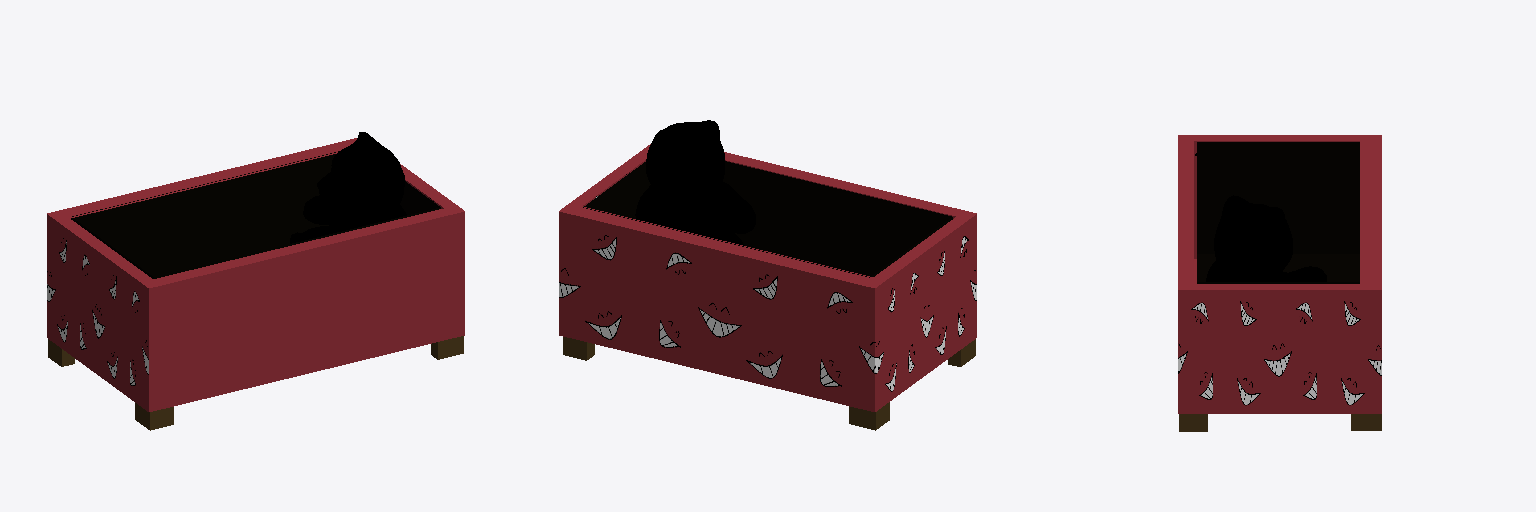
3 renders of one model, left to right at view 1: azimuth 30°, elevation 25°; view 2: azimuth 150°, elevation 25°; view 3: azimuth 270°, elevation 25°, orthographic.
Parts seen in each view (by area): view 1: polySurface5 polySurface17, polySurface5 polySurface13, Bear1:Mesh, polySurface5 polySurface18, polySurface16 polySurface5; view 2: polySurface5 polySurface17, polySurface5 polySurface13, Bear1:Mesh, polySurface5 polySurface19, polySurface5 polySurface15; view 3: polySurface5 polySurface17, polySurface5 polySurface13, Bear1:Mesh, polySurface5 polySurface15.
Part boxes in pixels (x1,y1,x2,y2): polySurface5 polySurface17: (47, 138, 464, 411); polySurface5 polySurface13: (71, 151, 440, 278); Bear1:Mesh: (290, 132, 406, 243); polySurface5 polySurface18: (135, 403, 173, 430); polySurface16 polySurface5: (431, 336, 463, 359); polySurface5 polySurface17: (559, 144, 976, 411); polySurface5 polySurface13: (583, 161, 952, 277); Bear1:Mesh: (635, 120, 755, 245); polySurface5 polySurface19: (849, 402, 889, 430); polySurface5 polySurface15: (563, 337, 594, 360); polySurface5 polySurface17: (1178, 135, 1381, 413); polySurface5 polySurface13: (1197, 142, 1359, 283); Bear1:Mesh: (1206, 195, 1326, 281); polySurface5 polySurface15: (1351, 414, 1381, 430).
Size of the model in its own units: 2.21 by 1.32 by 1.24.
4 materials, 3 textured.